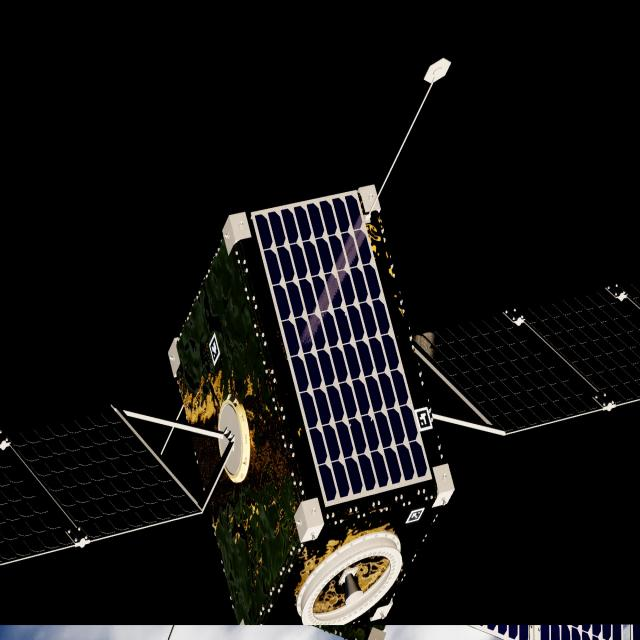medium_debris: (0, 185, 640, 630)
